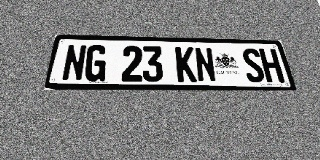2: (121, 46, 142, 82)
3: (143, 46, 163, 82)
G: (83, 45, 107, 81)
H: (258, 49, 285, 83)
K: (175, 47, 197, 82)
N: (61, 44, 87, 81), (194, 47, 217, 82)
S: (241, 48, 266, 83)
